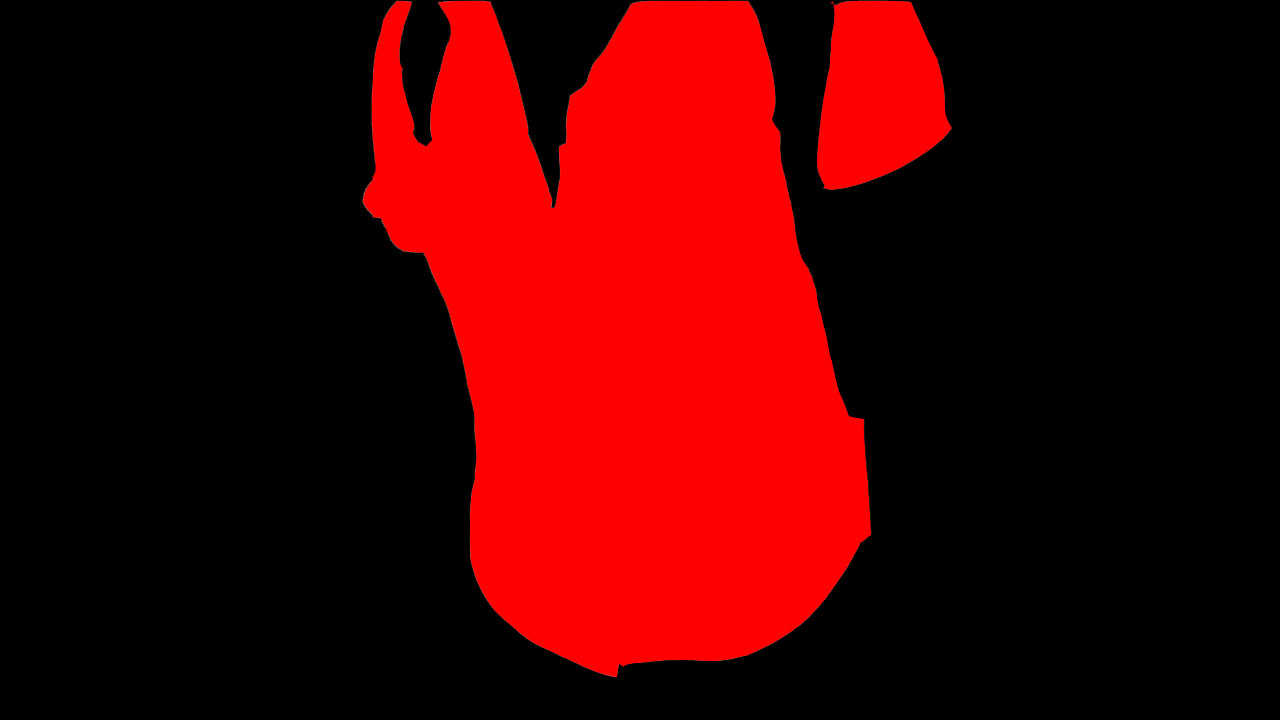uniforme_ifmt: (361, 6, 962, 676)
